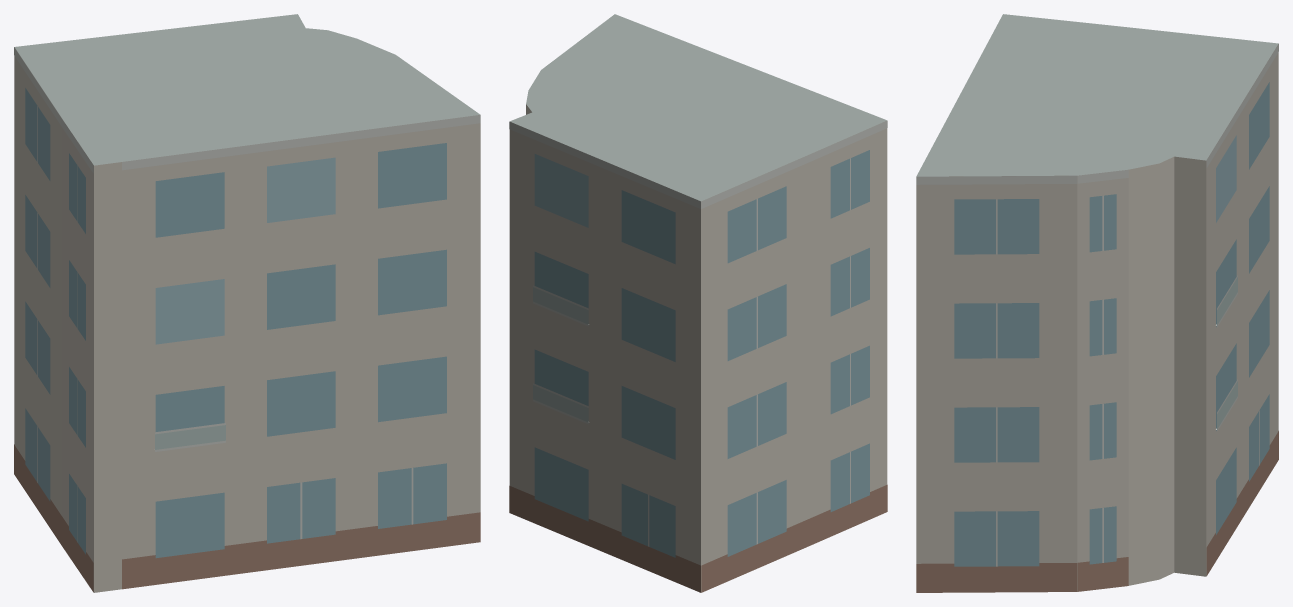
File: survey-upis-33014624.glb
3 views of the same model, side by side, from view 1: azimuth 30°, elevation 25°; view 2: azimuth 150°, elevation 25°; view 3: azimuth 270°, elevation 25° (orthographic). The views are drawn at different scales.
Parts seen in each view (by area): view 1: survey-upis-33014624.tmp; view 2: survey-upis-33014624.tmp; view 3: survey-upis-33014624.tmp.
Part boxes in pixels (x1=…): survey-upis-33014624.tmp: x1=14, y1=14, x2=480, y2=592; survey-upis-33014624.tmp: x1=509, y1=14, x2=887, y2=592; survey-upis-33014624.tmp: x1=916, y1=14, x2=1278, y2=592.
Bounding box in the file's own units: 10.4 × 12.4 × 9.8.
